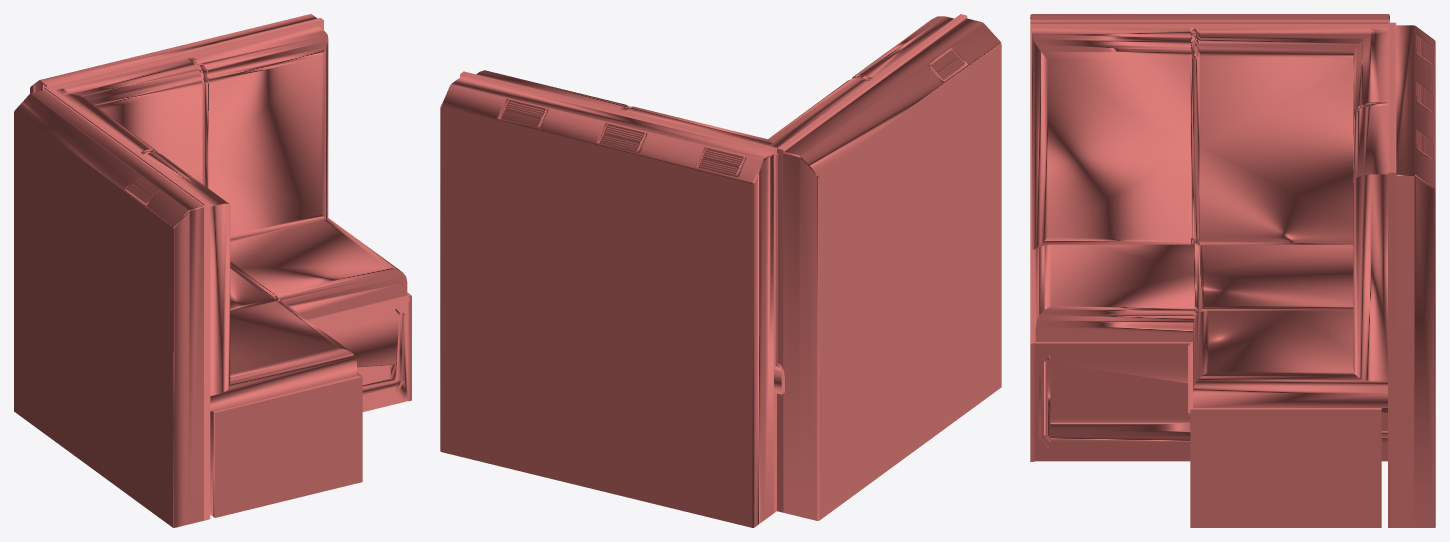
The model's file is barBoothCorner_clean_stanton_uee_01.glb.
3 views of the same model, side by side, from view 1: azimuth 30°, elevation 25°; view 2: azimuth 150°, elevation 25°; view 3: azimuth 270°, elevation 25° (orthographic). The views are drawn at different scales.
Bounding box in the file's own units: 1.25 × 1.22 × 1.26.
